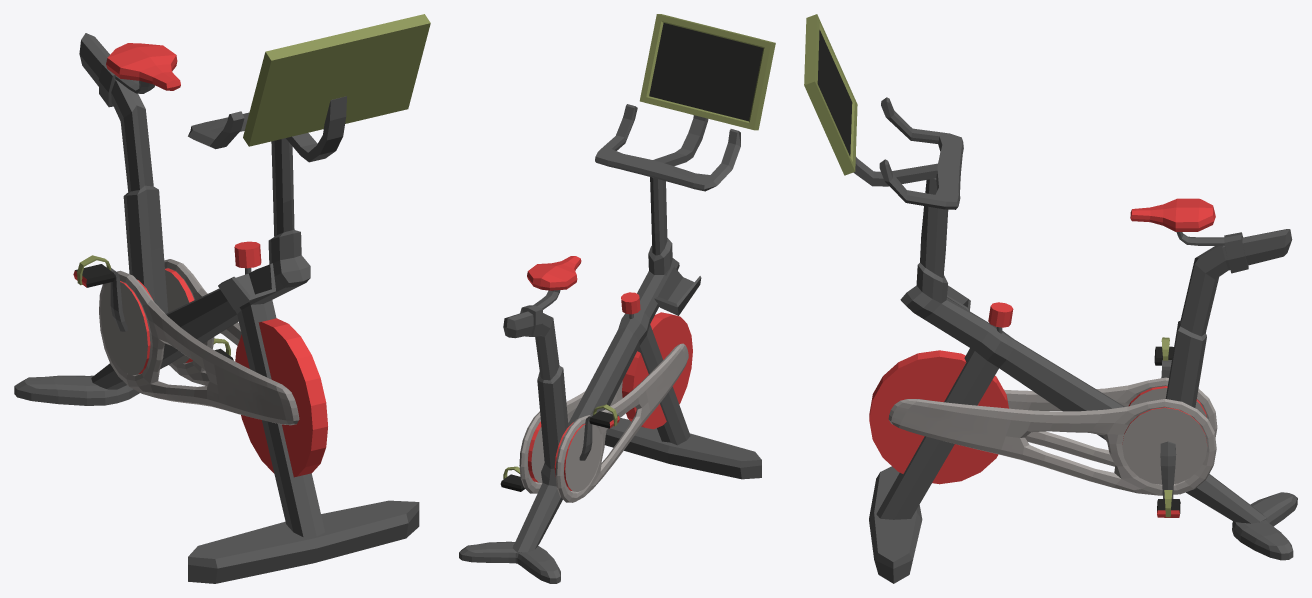
Rendered from Gym_Peloton_231109.glb.
3 views of the same model, side by side, from view 1: azimuth 30°, elevation 25°; view 2: azimuth 150°, elevation 25°; view 3: azimuth 270°, elevation 25° (orthographic). The views are drawn at different scales.
Parts seen in each view (by area): view 1: Gym_Peloton; view 2: Gym_Peloton; view 3: Gym_Peloton.
Part boxes in pixels (left/top/right/bottom): Gym_Peloton: left=14, top=14, right=430, bottom=583; Gym_Peloton: left=459, top=14, right=775, bottom=583; Gym_Peloton: left=804, top=14, right=1297, bottom=583.
Bounding box in the file's own units: 1.05 × 2.42 × 2.23.
Materials: 1 (1 with a texture image).
